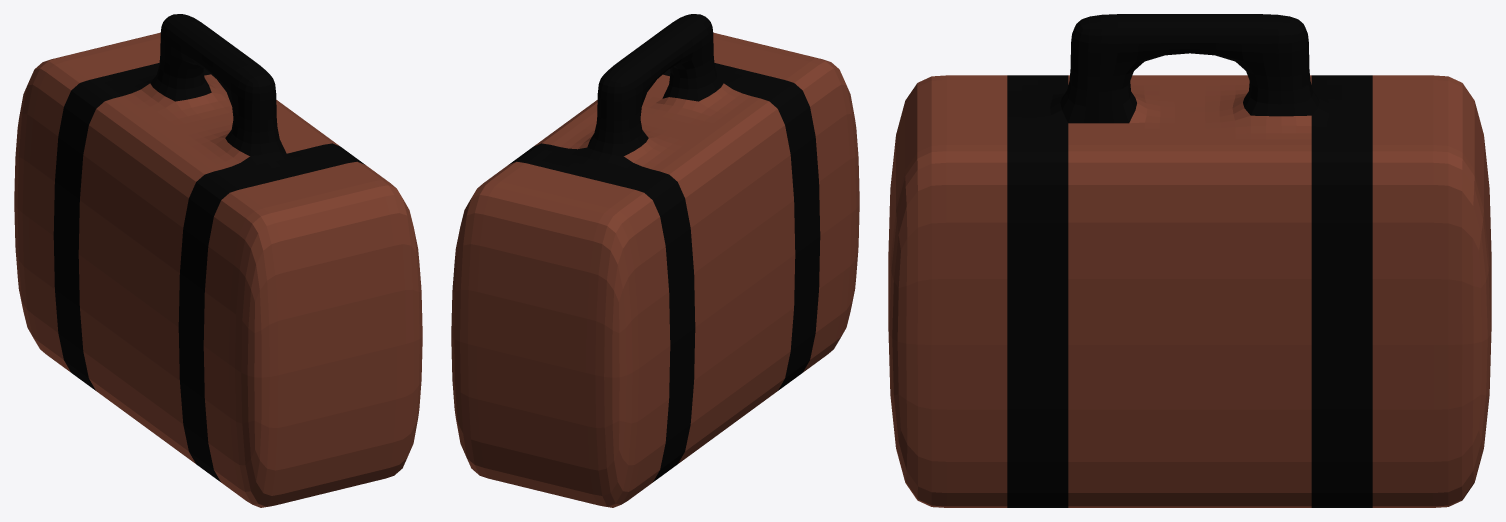
File: Maletin.fbx
The picture shows the model from 3 angles, left to right: view 1: azimuth 30°, elevation 25°; view 2: azimuth 150°, elevation 25°; view 3: azimuth 270°, elevation 25°; orthographic projection. The views are drawn at different scales.
Parts seen in each view (by area): view 1: Cube; view 2: Cube; view 3: Cube.
Boxes of the visible parts, x1,y1,x2,y2 form: Cube: [14, 14, 422, 507]; Cube: [451, 14, 859, 507]; Cube: [888, 14, 1491, 507].
Size of the model in its own units: 82.94 by 165 by 198.
1 material, 1 textured.
